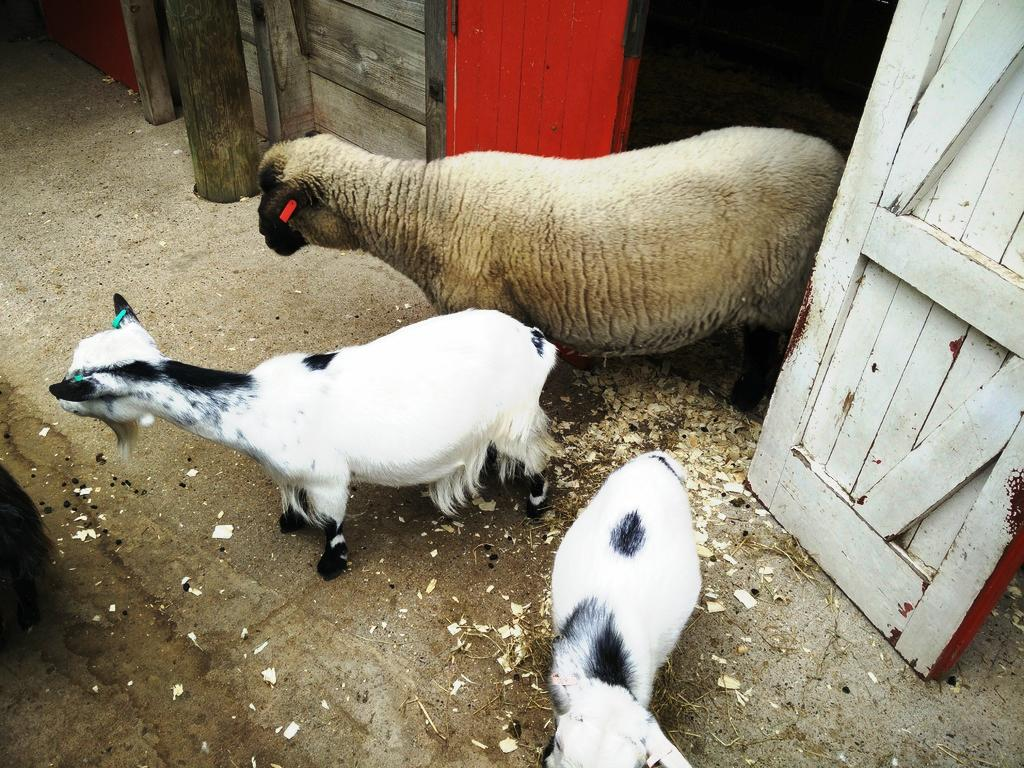Sheep: (256, 127, 844, 361)
